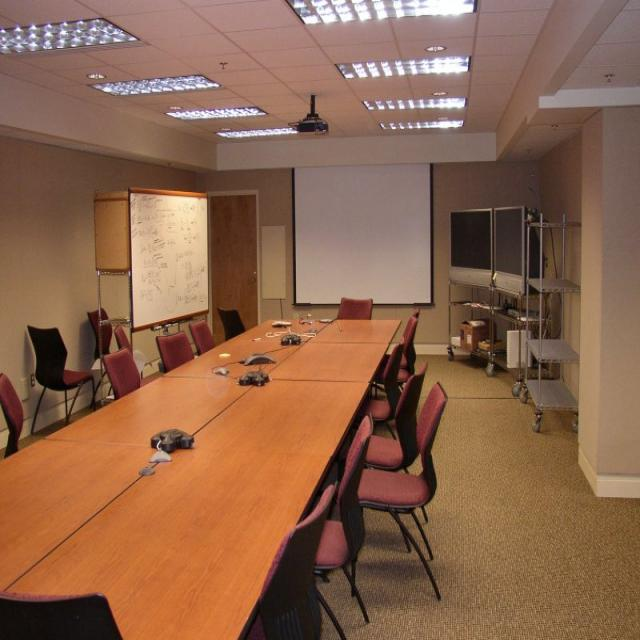back of chair: (0, 587, 123, 637), (1, 369, 24, 458), (154, 327, 197, 373), (217, 304, 246, 340), (188, 317, 215, 355), (333, 295, 374, 318)
binder: (505, 329, 532, 368)
box contants: (459, 320, 486, 351)
ceiling beam: (1, 1, 639, 163)
ceiling vent: (3, 16, 139, 54), (287, 3, 478, 26), (86, 70, 223, 96), (333, 54, 471, 79), (164, 105, 270, 121), (361, 96, 466, 111), (379, 121, 467, 132), (214, 126, 294, 138), (423, 42, 449, 52), (85, 69, 108, 79), (430, 87, 449, 98)
chair -occluded-: (24, 320, 98, 436)
chairs desk: (247, 413, 372, 637), (359, 359, 446, 603), (369, 305, 422, 436), (84, 304, 143, 402)
door bars: (206, 188, 260, 347)
dry earase board: (129, 186, 208, 334)
floor -X: (317, 354, 639, 639)
object: (147, 426, 198, 462), (236, 350, 278, 368), (235, 369, 273, 388), (212, 364, 230, 379), (477, 339, 490, 354)
objects: (263, 326, 319, 347)
outlet: (27, 370, 37, 387)
projection screen: (292, 163, 434, 308)
projector: (297, 93, 328, 133)
starage rack: (446, 206, 525, 398)
storage rack: (94, 183, 207, 406), (518, 209, 582, 432)
tv camera: (446, 209, 494, 283), (493, 209, 522, 293)
wall clock: (1, 71, 639, 496)
